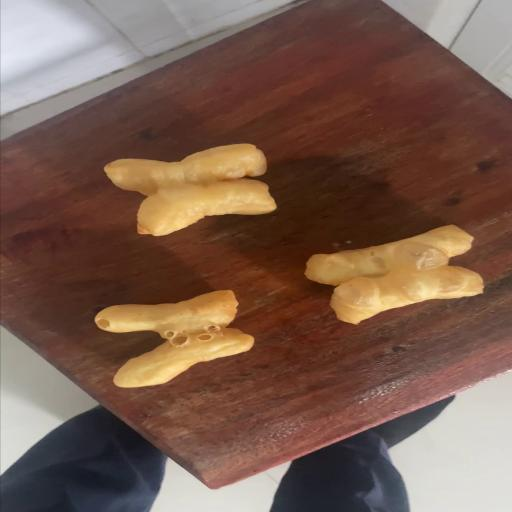street_golden_defect: (303, 226, 481, 324), (94, 291, 254, 385)
street_golden_good: (105, 145, 274, 236)
